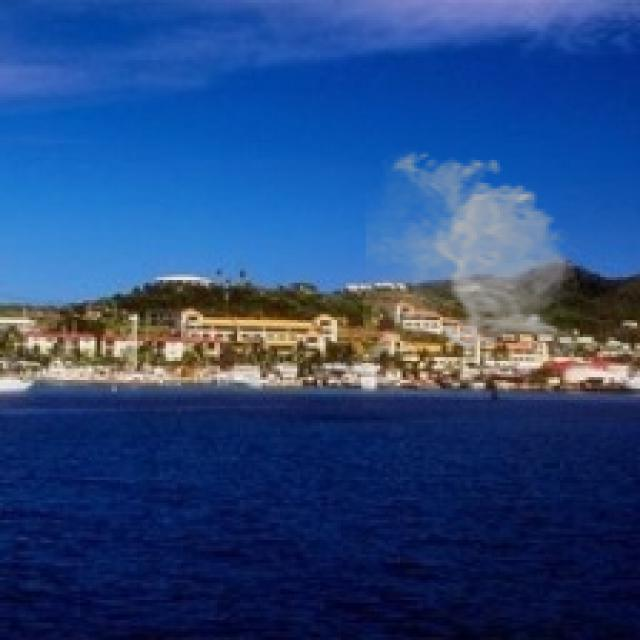smoke: (366, 146, 580, 354)
